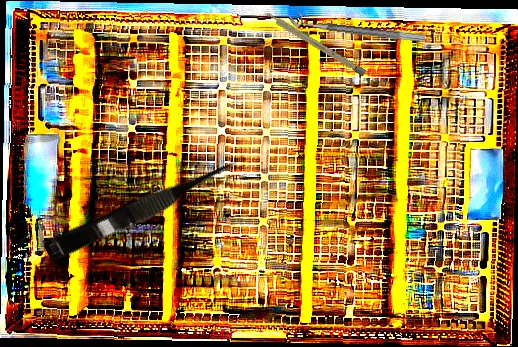Fixation Ring: (289, 5, 427, 44)
Micro Scissor: (42, 152, 245, 267)
Scalpel Handle: (263, 10, 367, 77)
